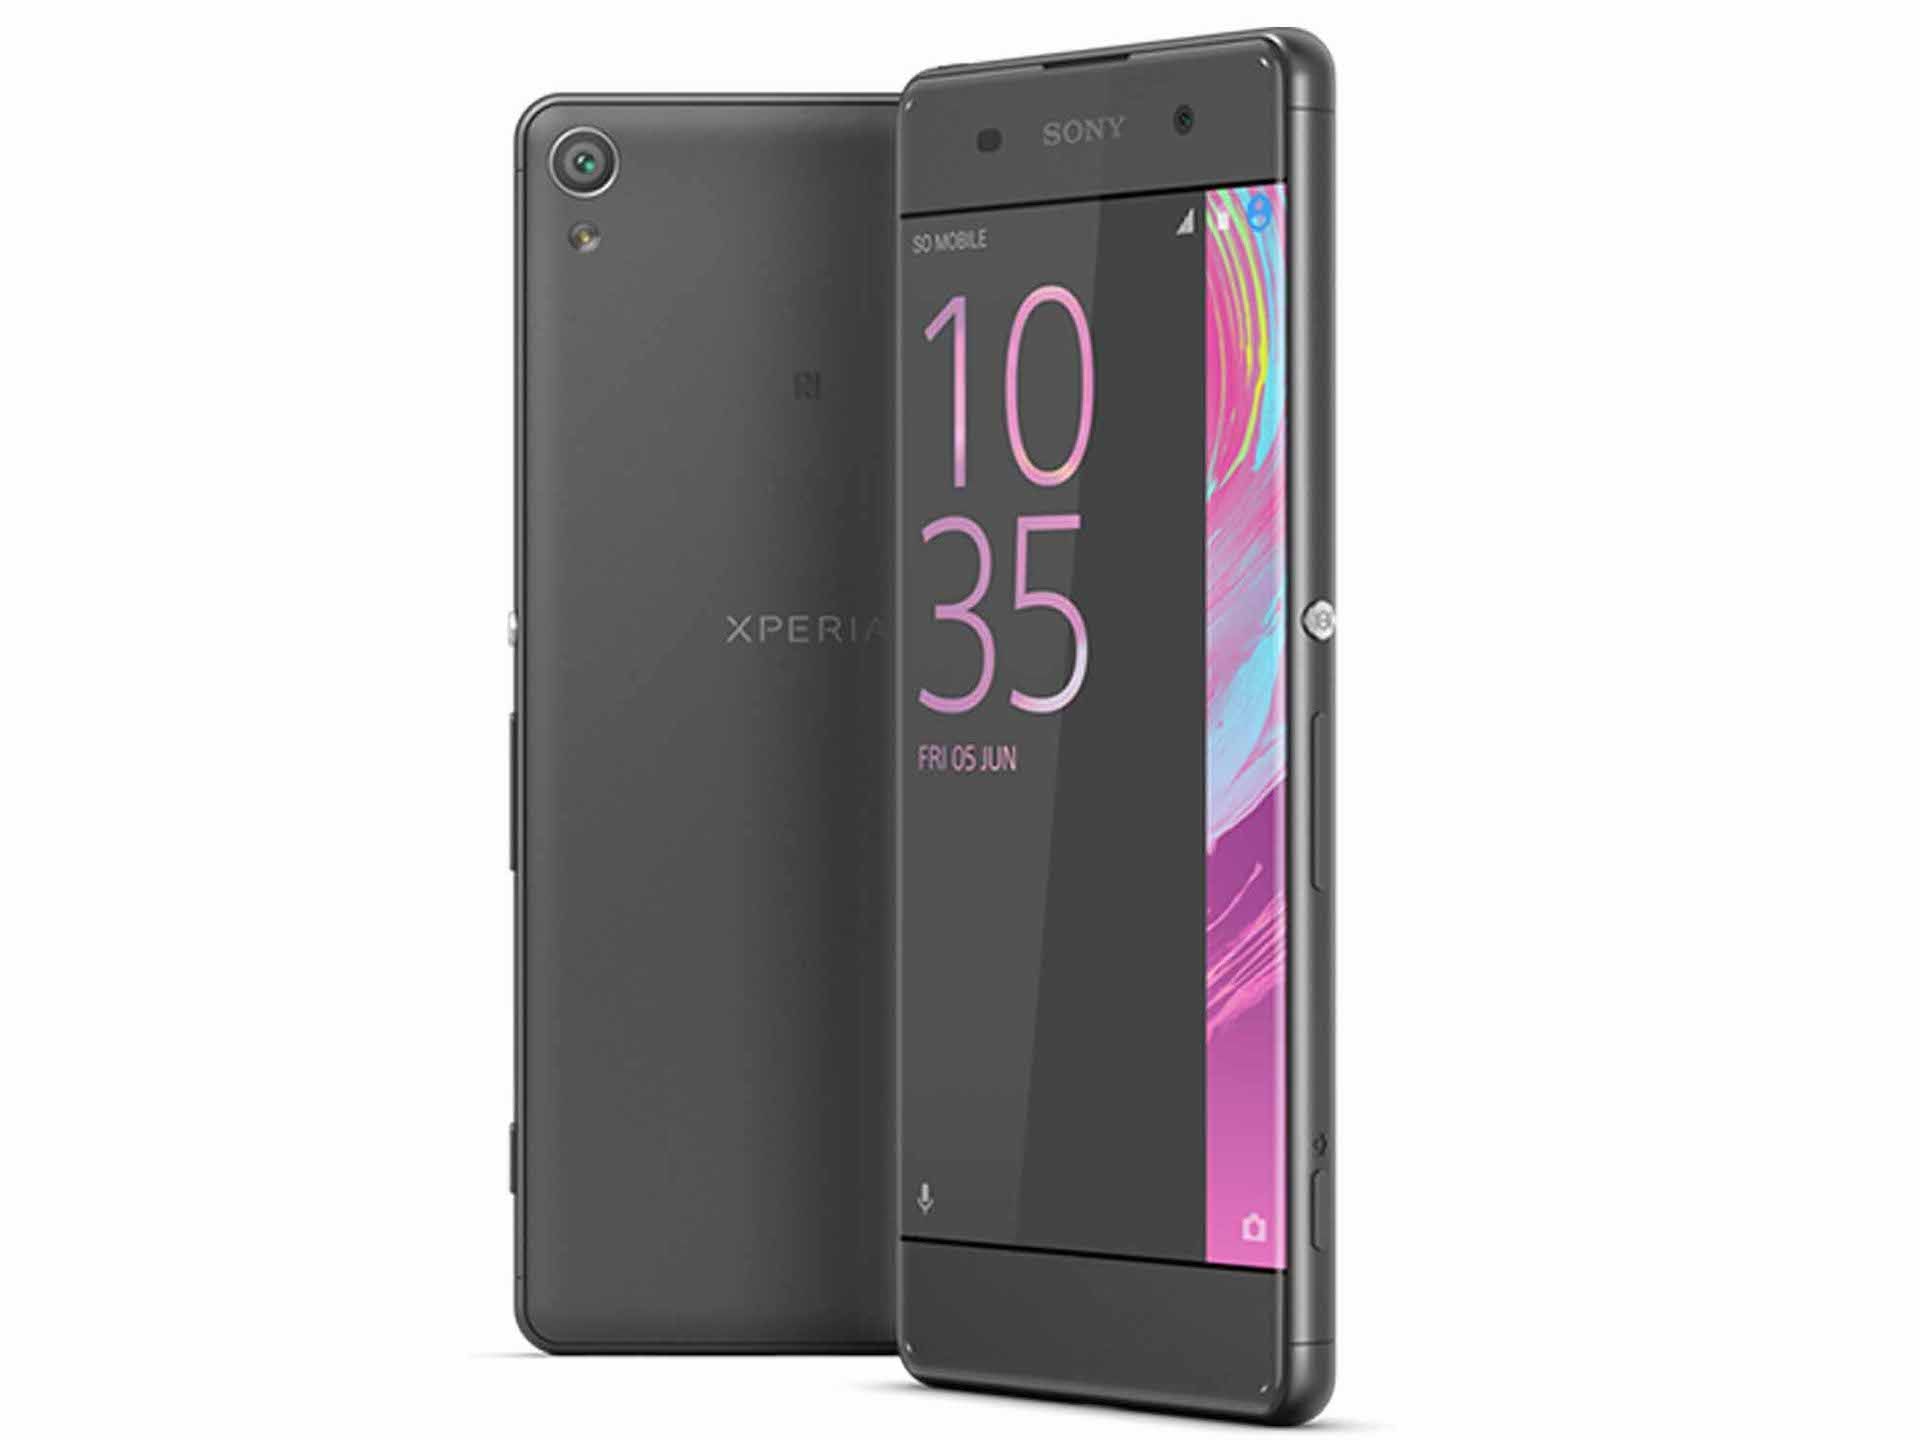smartphone: (893, 23, 1342, 1426), (503, 91, 897, 1363)
